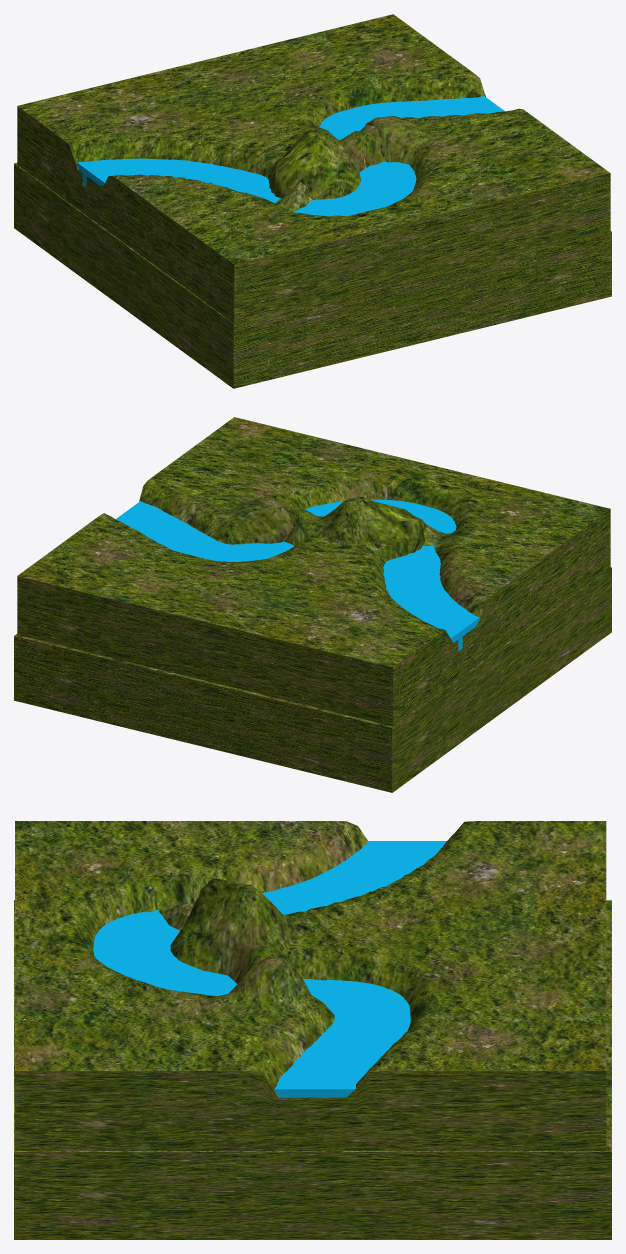
File: 弯曲型河床.gltf
3 views of the same model, one above another, from view 1: azimuth 30°, elevation 25°; view 2: azimuth 150°, elevation 25°; view 3: azimuth 270°, elevation 25° (orthographic). The views are drawn at different scales.
Parts seen in each view (by area): view 1: node__3386, node_Cube_3244, node_Cube (1)_3318, node_Box003_3406, node_Box004_3412, node_Box002_3408; view 2: node__3386, node_Cube_3244, node_Box003_3406, node_Cube (1)_3318, node_Box004_3412, node_Box002_3408; view 3: node__3386, node_Cube_3244, node_Cube (1)_3318, node_Box003_3406, node_Box004_3412, node_Box002_3408.
Part boxes in pixels (x1,y1,x2,y2): node__3386: (17, 14, 610, 323); node_Cube_3244: (14, 163, 611, 388); node_Cube (1)_3318: (76, 96, 504, 216); node_Box003_3406: (69, 77, 485, 217); node_Box004_3412: (252, 116, 425, 211); node_Box002_3408: (243, 107, 330, 154); node__3386: (17, 417, 610, 726); node_Cube_3244: (14, 567, 611, 792); node_Box003_3406: (108, 478, 488, 648); node_Cube (1)_3318: (115, 499, 479, 651); node_Box004_3412: (228, 497, 467, 568); node_Box002_3408: (249, 536, 362, 573); node__3386: (15, 821, 606, 1150); node_Cube_3244: (14, 900, 611, 1239); node_Cube (1)_3318: (93, 841, 446, 1097); node_Box003_3406: (65, 821, 464, 1097); node_Box004_3412: (133, 871, 311, 1005); node_Box002_3408: (288, 911, 405, 999).
Size of the model in its own units: 2.56 by 1.01 by 2.57.
